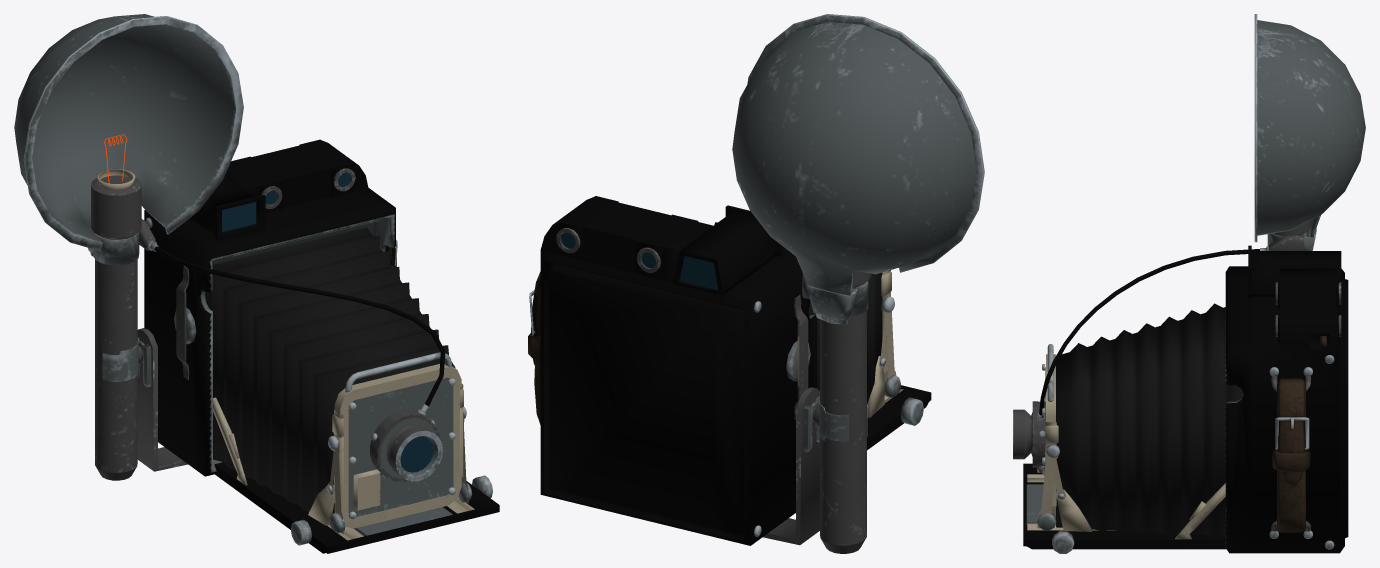
File: photoaparat.fbx
3 renders of one model, left to right at view 1: azimuth 30°, elevation 25°; view 2: azimuth 150°, elevation 25°; view 3: azimuth 270°, elevation 25°, orthographic. The views are drawn at different scales.
Visible parts, largest first — view 1: cam, light.002, base, base_close, light._cable; view 2: base, light.002, cam, base_close; view 3: cam, base, light.002, base_close, light._cable.
Boxes of the visible parts, x1,y1,x2,y2 form: cam: (205, 227, 472, 533); light.002: (14, 14, 243, 480); base: (137, 139, 397, 476); base_close: (213, 397, 499, 553); light._cable: (154, 246, 445, 406); base: (528, 196, 819, 545); light.002: (732, 14, 984, 553); cam: (714, 222, 900, 417); base_close: (867, 385, 931, 450); cam: (1013, 303, 1243, 536); base: (1225, 245, 1348, 553); light.002: (1254, 14, 1365, 250); base_close: (1023, 463, 1226, 553); light._cable: (1039, 249, 1259, 415).
Bounding box in the file's own units: 0.4225 × 0.4896 × 0.3636.
